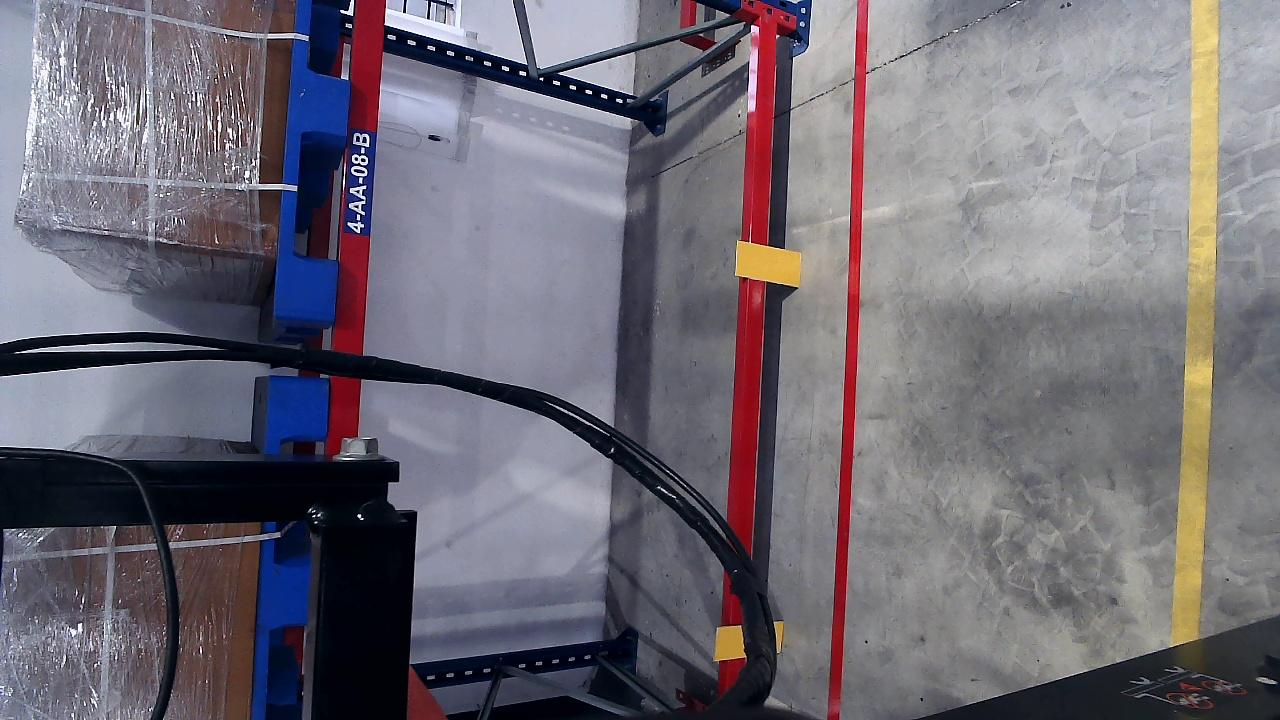h_rack: (724, 28, 775, 695), (331, 2, 389, 435)
orange_strip: (735, 241, 801, 287), (714, 626, 745, 660)
red_line: (833, 11, 868, 720)
small_pallet: (267, 1, 362, 322), (254, 382, 328, 720)
yellow_line: (1171, 3, 1219, 653)
